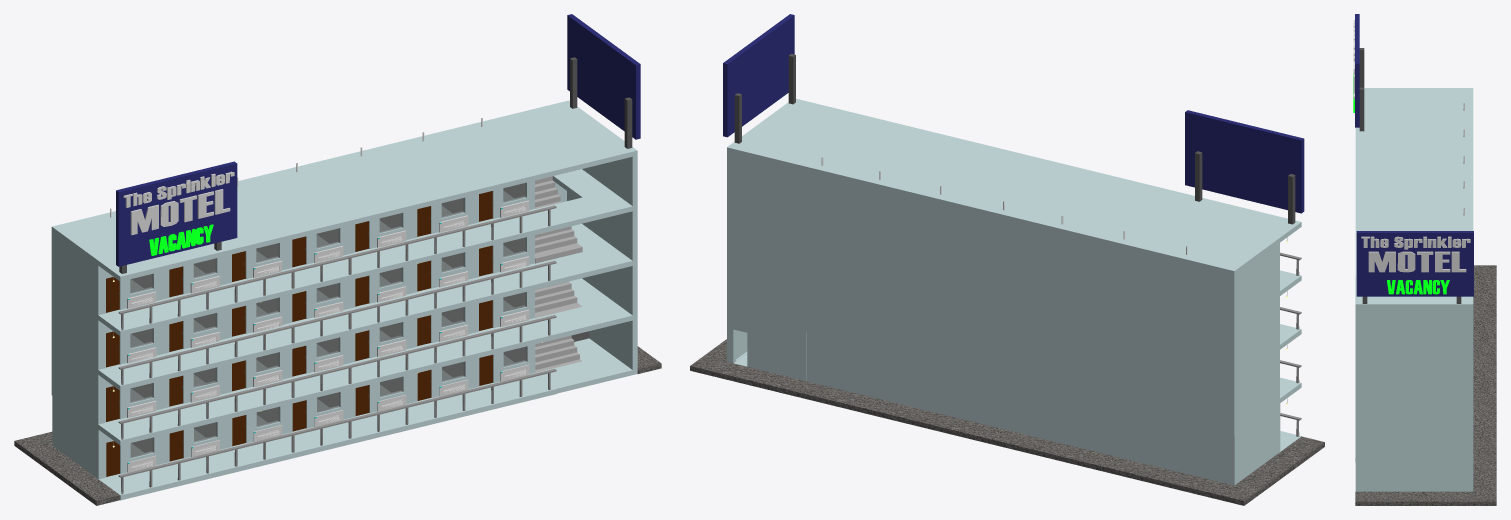
Rendered from Cheap Motel.glb.
3 views of the same model, side by side, from view 1: azimuth 30°, elevation 25°; view 2: azimuth 150°, elevation 25°; view 3: azimuth 270°, elevation 25° (orthographic). The views are drawn at different scales.
Parts seen in each view (by area): view 1: Floor.008, Stair Walls, Floor.004, Floor.002, Floor.006, Floor, Floor.005, Floor.001, Floor.007, Floor.003, Sign, PTACs (+11 smaller); view 2: Floor.008, Floor.005, Floor.003, Floor.007, Floor.001, Stair Walls, Gravel, Sign, Sign.001, Floor.002, Floor.006, Floor.004; view 3: Stair Walls, Floor.008, Sign.001, Gravel, Sign, Floor.
Boxes of the visible parts, x1,y1,x2,y2 form: Floor.008: (51, 100, 637, 281); Stair Walls: (535, 155, 637, 393); Floor.004: (51, 246, 556, 390); Floor.002: (51, 300, 556, 445); Floor.006: (51, 191, 556, 336); Floor: (99, 355, 557, 500); Floor.005: (51, 235, 534, 369); Floor.001: (52, 344, 535, 479); Floor.007: (51, 180, 534, 315); Floor.003: (51, 290, 534, 424); Sign: (116, 161, 237, 273); PTACs: (127, 200, 529, 472); Floor.008: (727, 98, 1301, 275); Floor.005: (806, 225, 1279, 378); Floor.003: (806, 279, 1279, 431); Floor.007: (806, 171, 1279, 324); Floor.001: (806, 332, 1280, 485); Stair Walls: (727, 152, 806, 380); Gravel: (690, 339, 1324, 505); Sign: (1185, 110, 1304, 224); Sign.001: (723, 14, 795, 143); Floor.002: (806, 327, 1301, 436); Floor.006: (806, 220, 1301, 329); Floor.004: (806, 274, 1301, 383); Stair Walls: (1355, 308, 1473, 491); Floor.008: (1355, 88, 1473, 308); Sign.001: (1356, 231, 1473, 303); Gravel: (1355, 265, 1496, 505); Sign: (1353, 14, 1364, 131); Floor: (1355, 275, 1355, 461).
Size of the model in its own units: 36.27 by 19.02 by 9.31.
20 materials, 1 textured.
